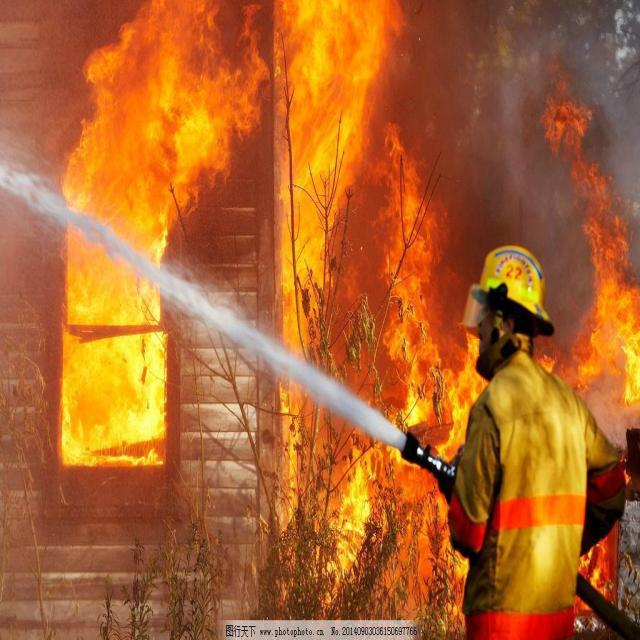fire: (274, 1, 454, 614), (46, 2, 259, 472), (540, 39, 638, 404)
other: (504, 418, 574, 632), (484, 232, 546, 318)
